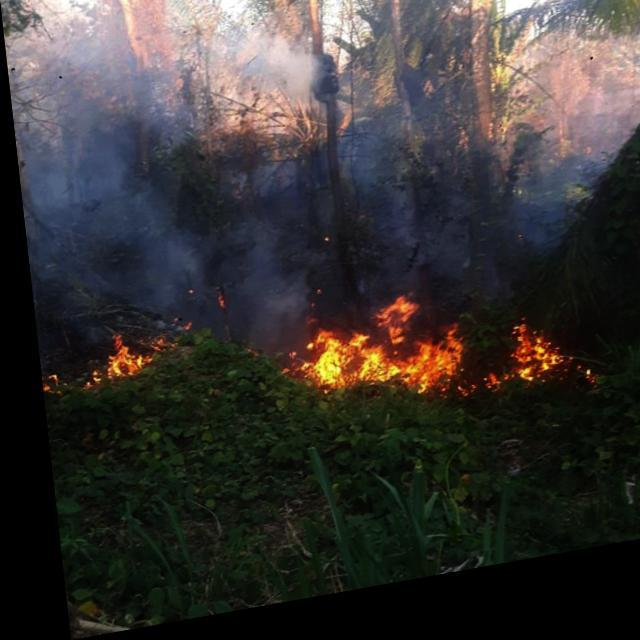Fire: (276, 276, 592, 446), (52, 326, 152, 394)
